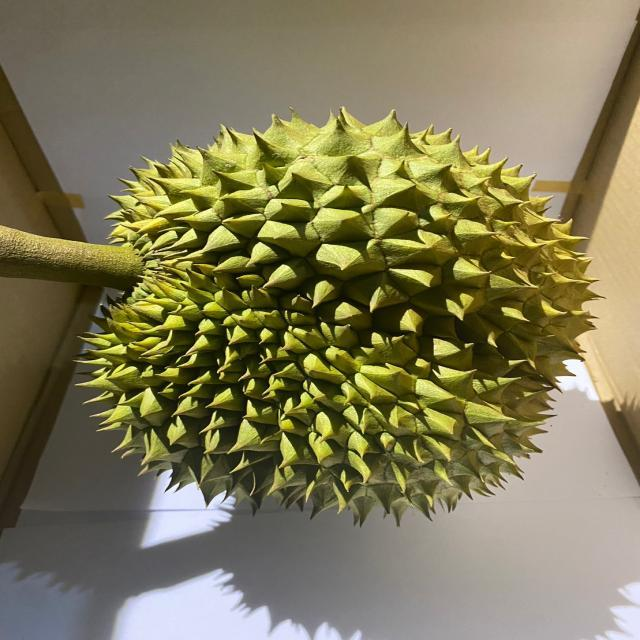immature: (73, 104, 605, 530)
